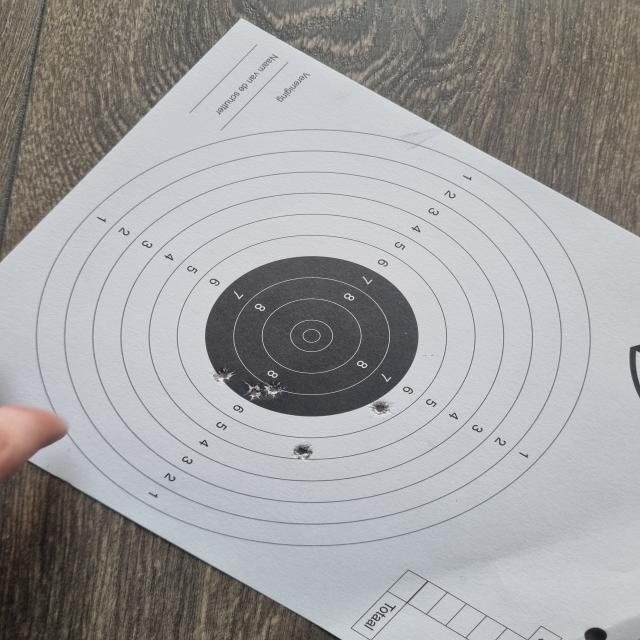6: (292, 442, 316, 460)
7: (370, 401, 392, 417)
8: (212, 367, 236, 382), (244, 381, 262, 401)
9: (262, 379, 286, 399)
Black Contour: (204, 255, 420, 418)
Target: (35, 132, 592, 547)
